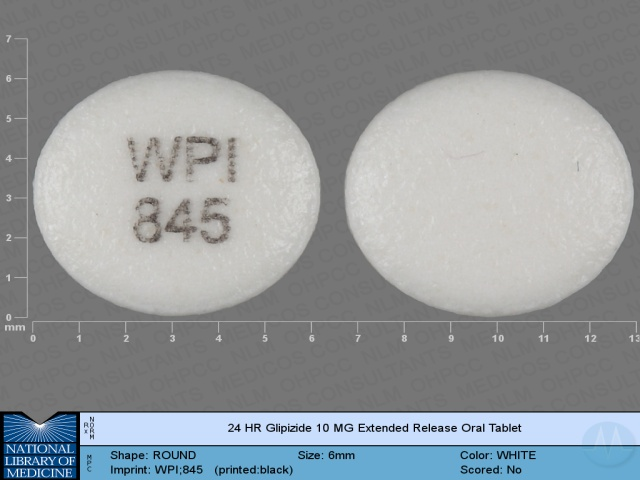4: (163, 195, 199, 249)
5: (197, 193, 235, 251)
8: (131, 195, 163, 248)
I: (225, 132, 239, 187)
P: (182, 133, 222, 191)
W: (125, 131, 183, 187)
